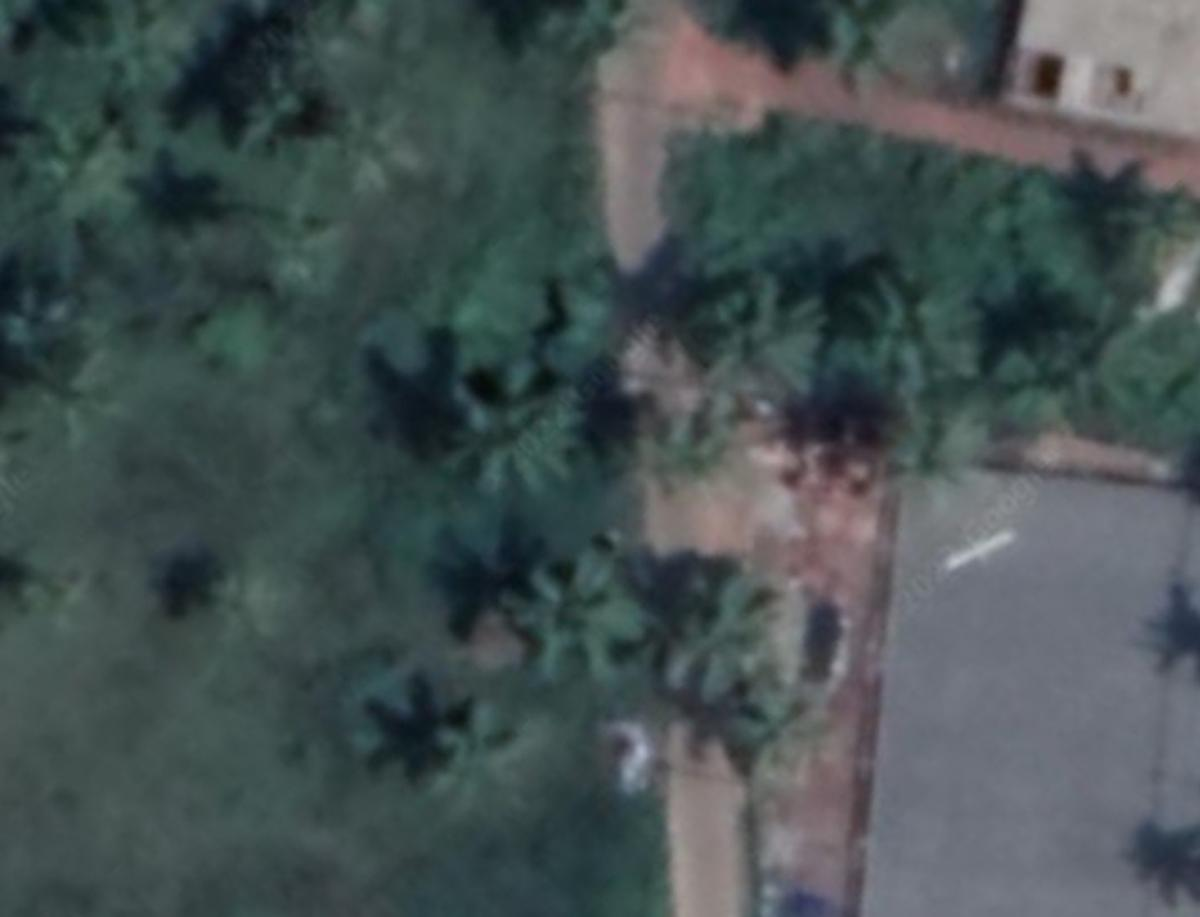coconut: (816, 269, 981, 405), (469, 543, 641, 671), (435, 361, 587, 484), (647, 560, 774, 701), (693, 284, 829, 407), (429, 694, 536, 816), (328, 99, 437, 198), (205, 573, 289, 647)
